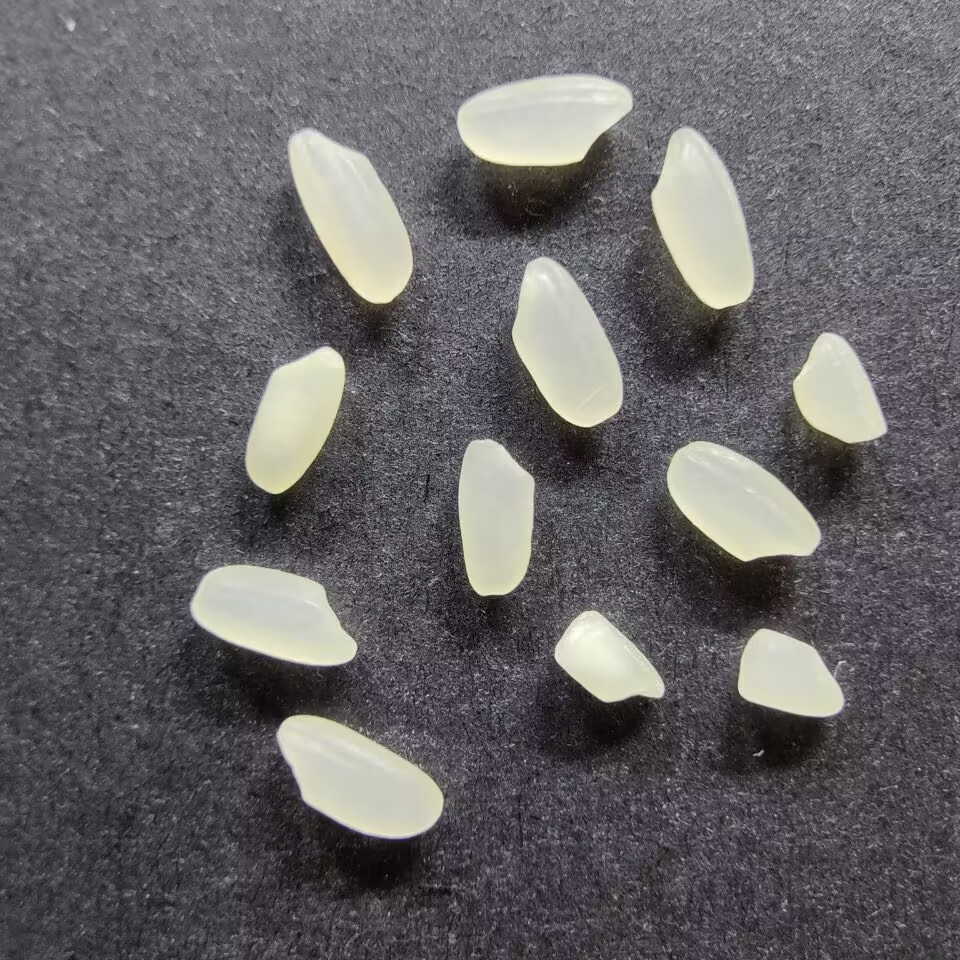broken: (552, 608, 668, 706), (791, 330, 888, 445), (735, 627, 846, 719)
rice: (286, 127, 414, 305), (274, 712, 444, 841), (648, 124, 756, 310), (509, 255, 623, 428), (665, 440, 823, 562), (189, 562, 358, 666), (454, 72, 635, 166), (243, 345, 346, 495), (456, 437, 535, 599)
